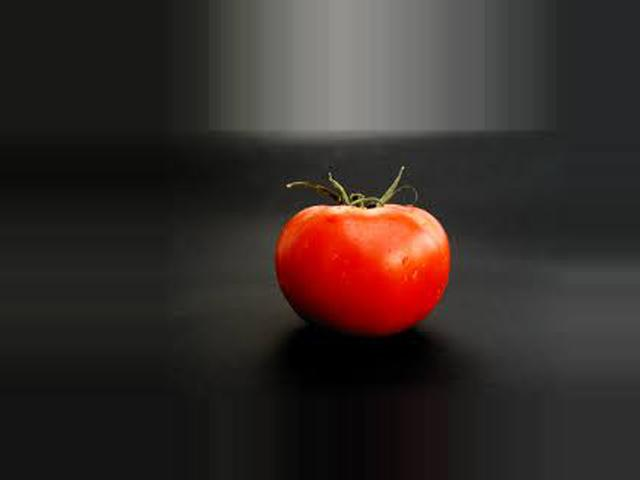tomato: (276, 204, 452, 335)
